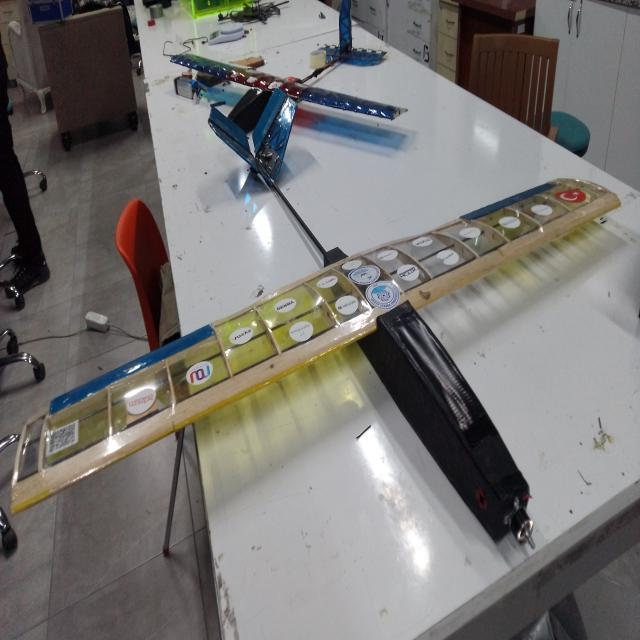iha: (1, 93, 639, 573), (159, 0, 441, 68)
